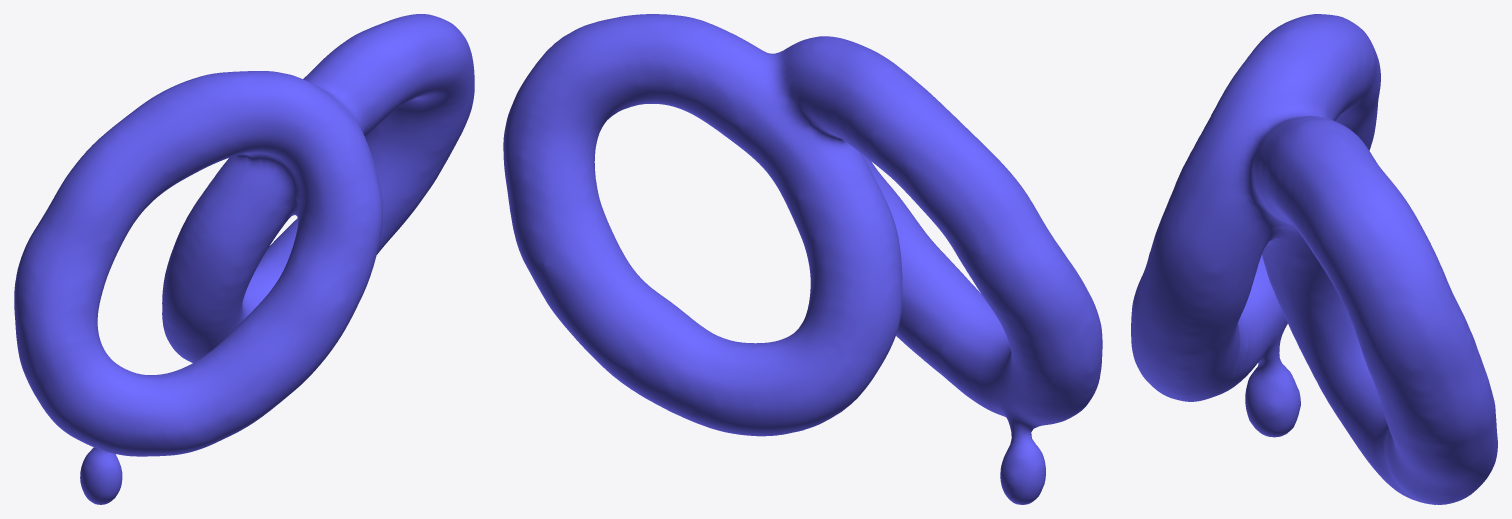
The model's file is partnerships.glb.
The picture shows the model from 3 angles, left to right: view 1: azimuth 30°, elevation 25°; view 2: azimuth 150°, elevation 25°; view 3: azimuth 270°, elevation 25°; orthographic projection. The views are drawn at different scales.
Parts seen in each view (by area): view 1: Halevora_partnerships; view 2: Halevora_partnerships; view 3: Halevora_partnerships.
Boxes of the visible parts, x1,y1,x2,y2 form: Halevora_partnerships: (14,14,474,504); Halevora_partnerships: (503,14,1102,504); Halevora_partnerships: (1131,14,1497,504).
Bounding box in the file's own units: 2.62 × 1.97 × 1.33.
